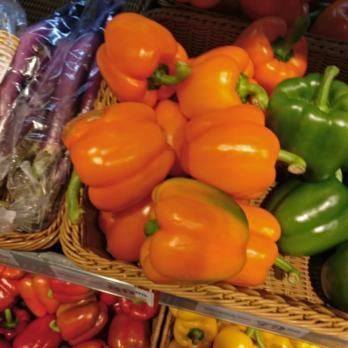Capsicum: (63, 8, 348, 285), (0, 298, 143, 348)
